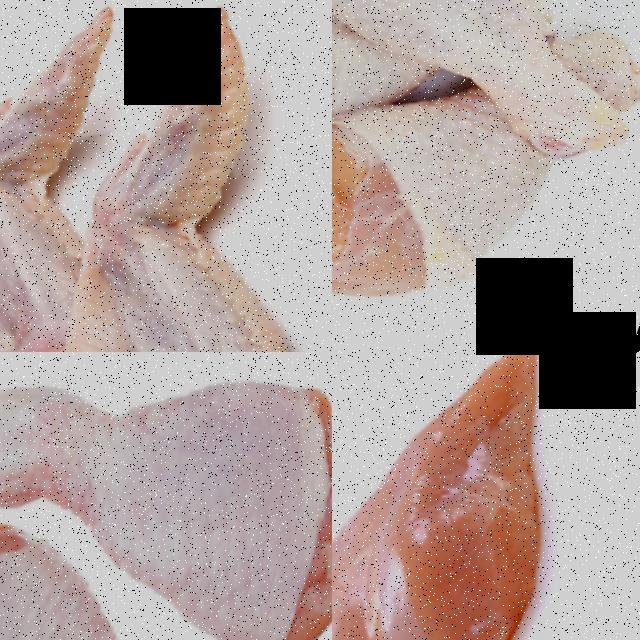chicken breast: (332, 352, 640, 640)
chicken thigh: (0, 352, 332, 640), (332, 86, 575, 342), (332, 0, 640, 154), (0, 503, 332, 640)
chicken wing: (0, 0, 332, 352), (0, 0, 152, 352)
